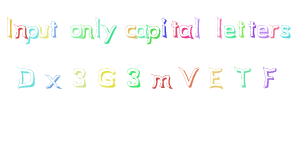3: (126, 67, 141, 88), (72, 67, 86, 87)
D: (16, 66, 35, 89)
E: (208, 67, 223, 89)
F: (261, 66, 278, 88)
G: (98, 68, 116, 89)
I: (3, 16, 18, 39)
T: (233, 67, 252, 88)
V: (178, 66, 200, 88)
a: (178, 24, 194, 38), (136, 23, 148, 38)
c: (124, 24, 137, 39)
e: (256, 24, 270, 38), (223, 24, 236, 38)
i: (160, 16, 168, 37)
l: (93, 16, 102, 38), (214, 16, 223, 38), (194, 14, 201, 38)
m: (150, 72, 173, 89)
n: (80, 23, 94, 39), (14, 22, 27, 39)
o: (69, 24, 83, 39)
p: (24, 23, 40, 45), (147, 24, 160, 45)
r: (270, 24, 280, 39)
s: (280, 24, 291, 39)
t: (49, 19, 59, 38), (170, 19, 180, 38), (248, 20, 256, 38), (237, 20, 245, 37)
u: (37, 23, 50, 39)
x: (44, 73, 61, 89)
y: (101, 23, 117, 44)
